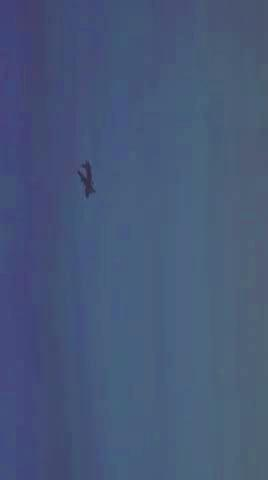Plane: (67, 140, 104, 218)
